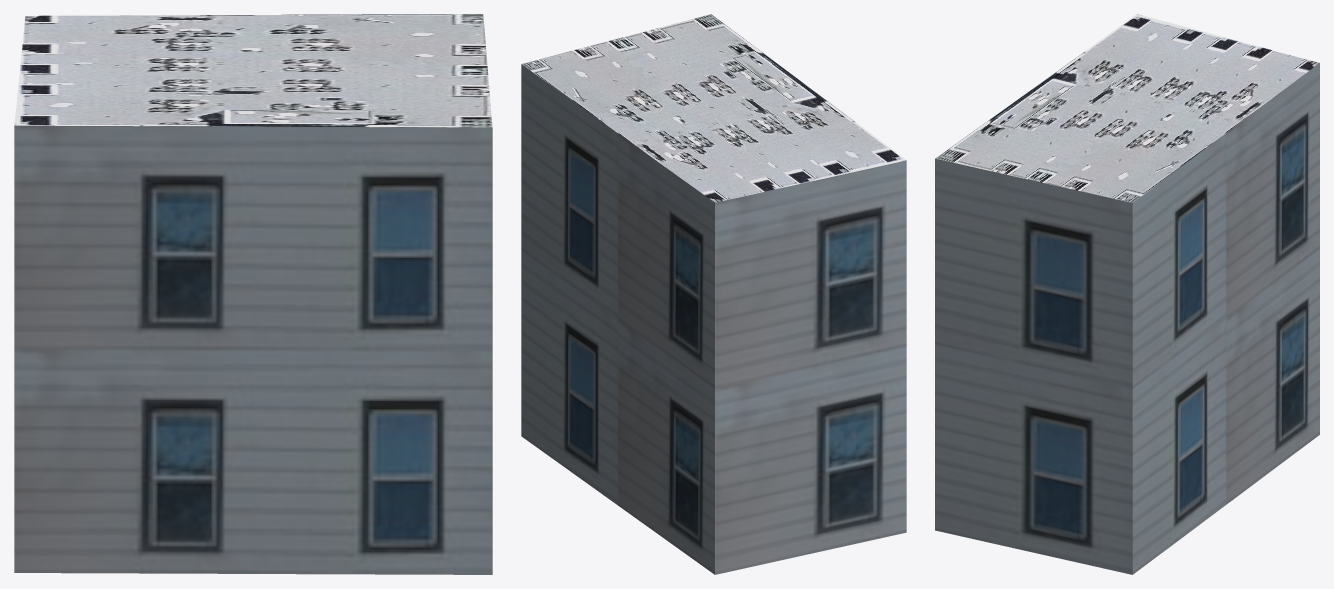
Rendered from ResTex__2677.fbx.
The picture shows the model from 3 angles, left to right: view 1: azimuth 30°, elevation 25°; view 2: azimuth 150°, elevation 25°; view 3: azimuth 270°, elevation 25°; orthographic projection. The views are drawn at different scales.
Visible parts, largest first — view 1: CityEngineMaterial_18_m, CityEngineMaterial_8_m; view 2: CityEngineMaterial_18_m, CityEngineMaterial_8_m; view 3: CityEngineMaterial_18_m, CityEngineMaterial_8_m.
Part boxes in pixels (bbox=[...]): CityEngineMaterial_18_m: bbox=[14, 125, 492, 574]; CityEngineMaterial_8_m: bbox=[14, 14, 492, 127]; CityEngineMaterial_18_m: bbox=[521, 64, 906, 574]; CityEngineMaterial_8_m: bbox=[521, 14, 906, 202]; CityEngineMaterial_18_m: bbox=[935, 63, 1319, 574]; CityEngineMaterial_8_m: bbox=[935, 14, 1319, 202].
Size of the model in its own units: 6.54 by 6 by 5.63.
2 materials, 2 textured.
